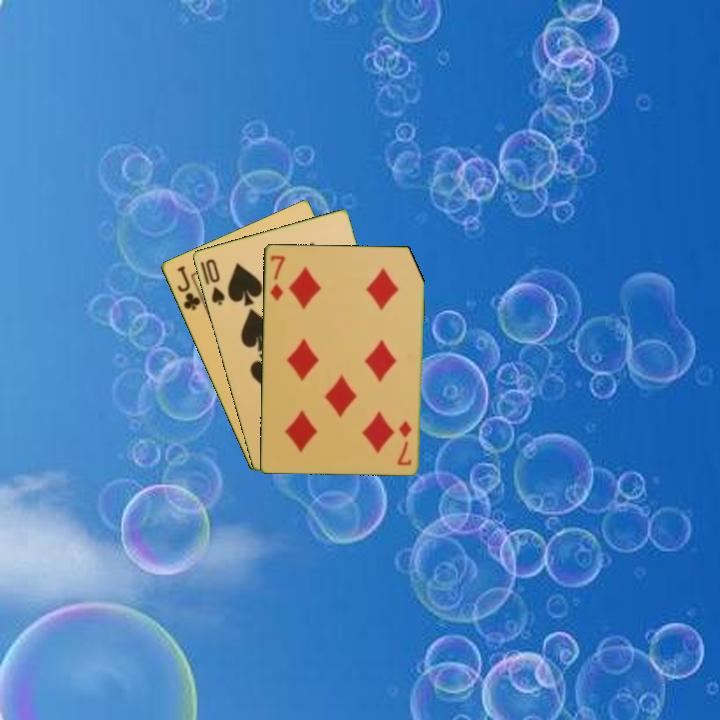10s: (202, 255, 227, 308)
7d: (267, 251, 288, 303), (395, 417, 414, 468)
Jc: (173, 262, 203, 313)
